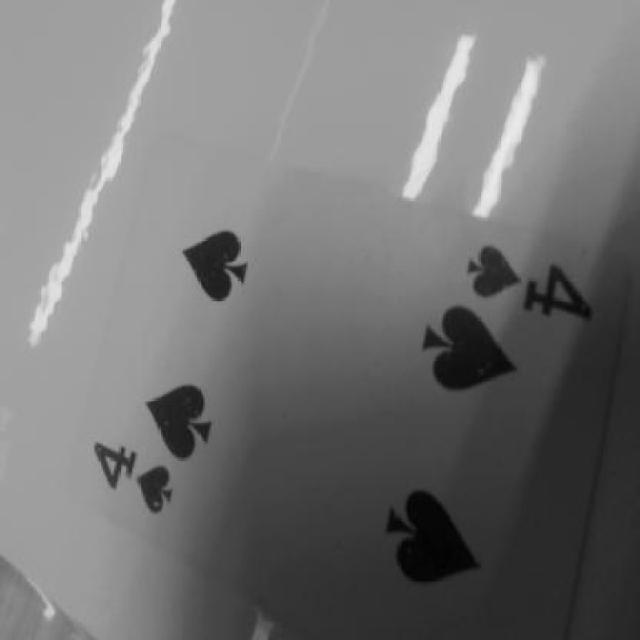4S: (73, 415, 185, 523)
